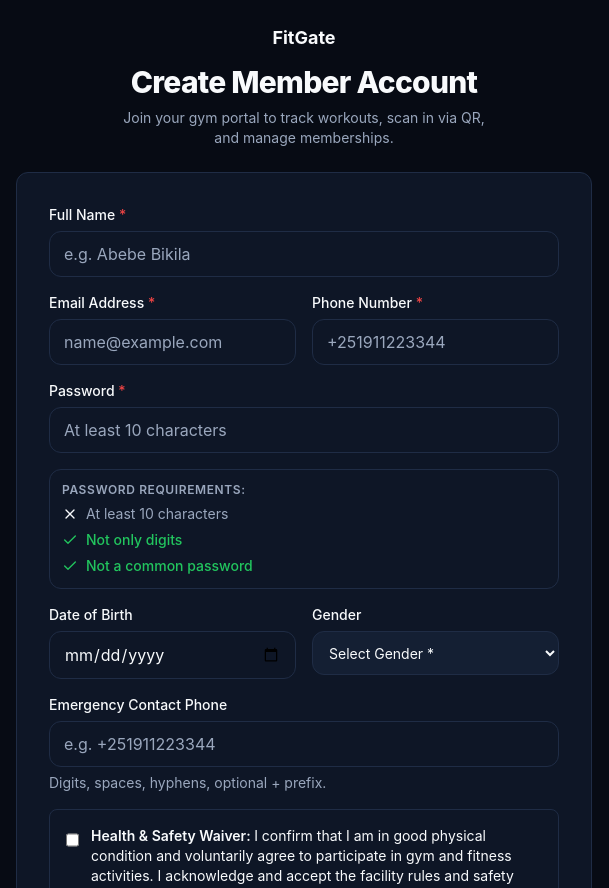
Test: Sprint 7: Member Registration & Body Metrics UI › RegisterScreen › requires health waiver to be accepted before submission
The width and height of the screenshot is (609, 888).
// Check waiver
Click the checkbox labelled "Health & Safety Waiver" at (72, 840), box [66,830,79,850]
(page scrolled)
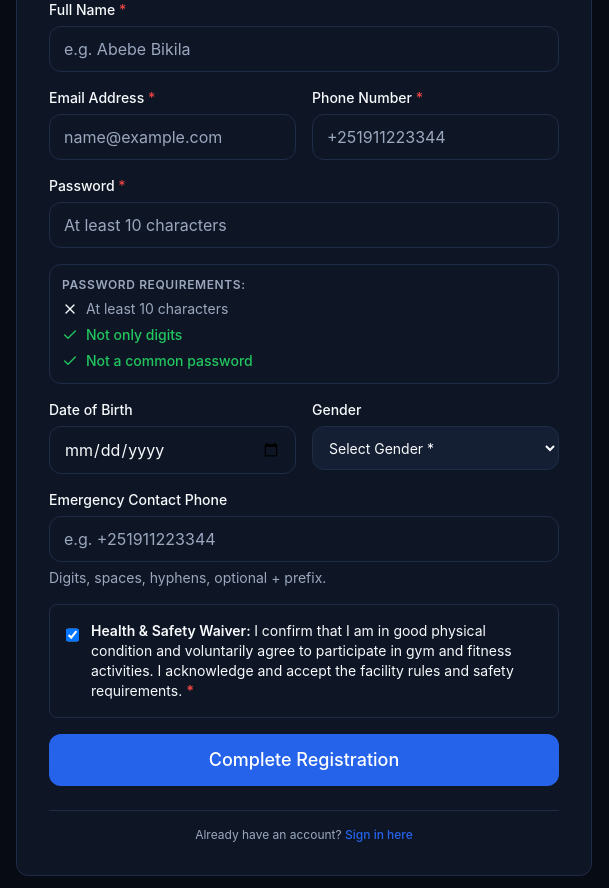
Expected: the button "Complete Registration" is enabled, [49,734,559,786]
